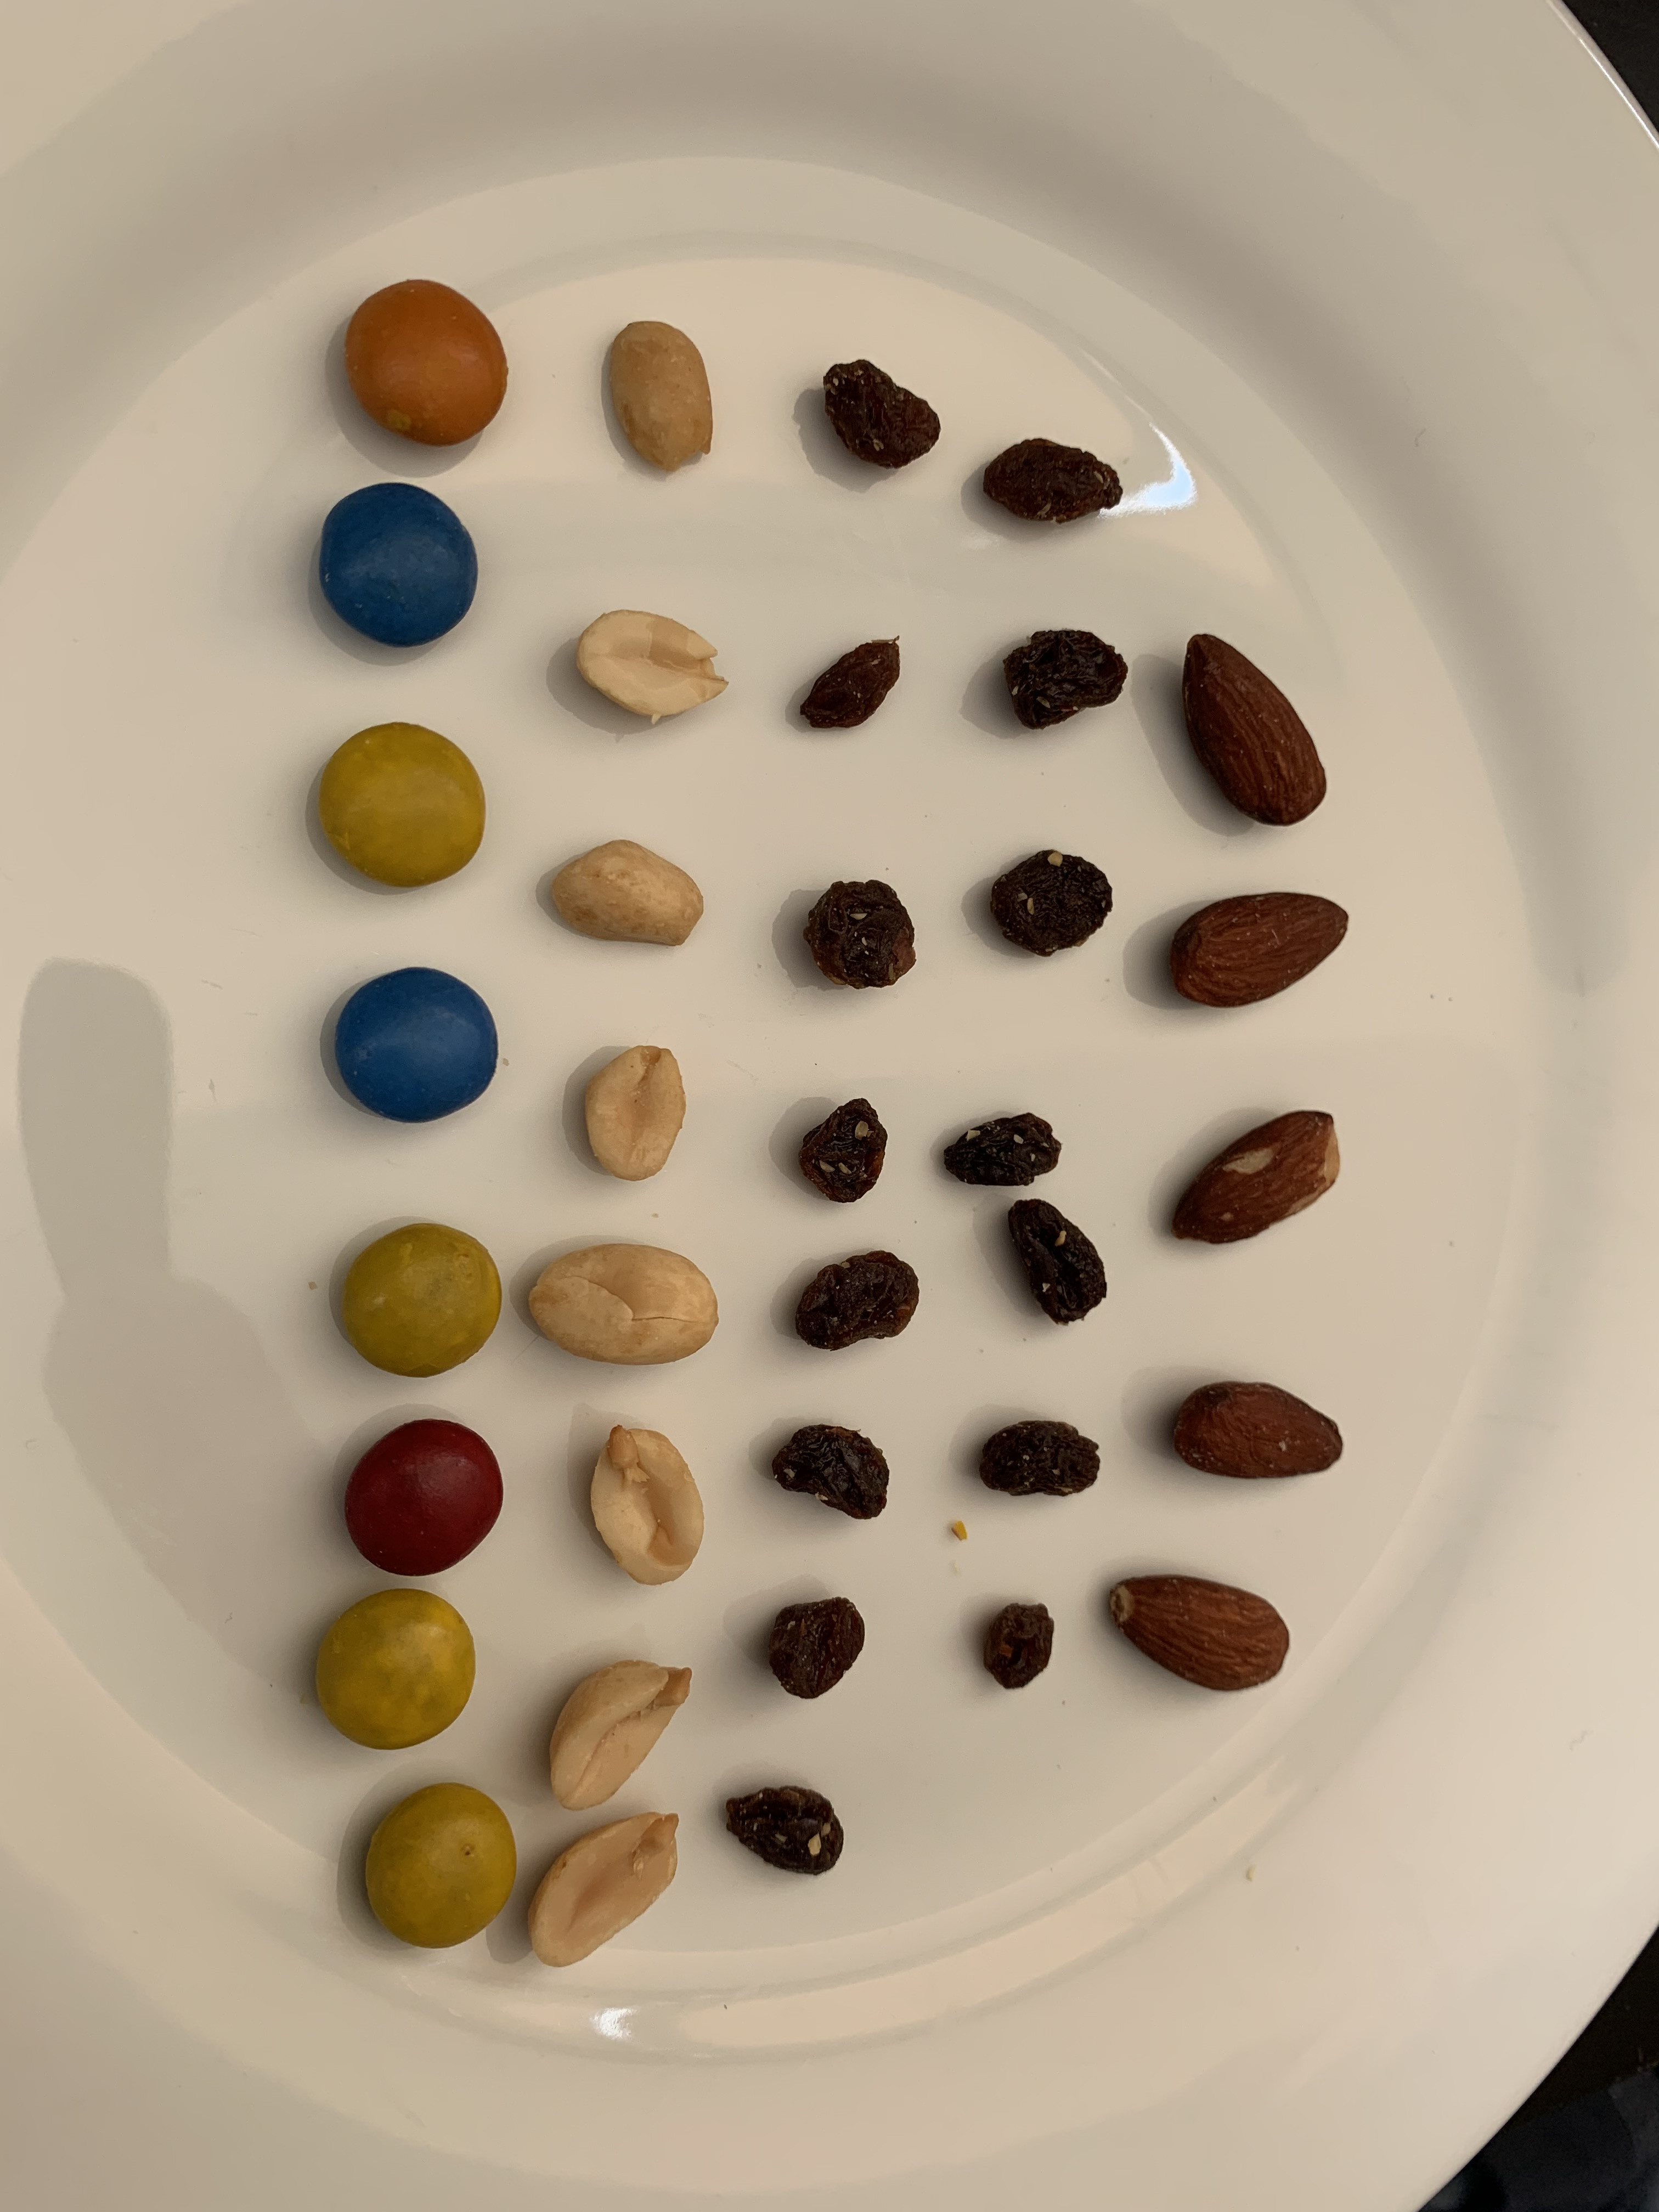almond: (1183, 631, 1328, 827), (1169, 1109, 1342, 1244), (1110, 1573, 1290, 1693), (1168, 892, 1351, 1008), (1169, 1379, 1345, 1479)
mm: (317, 718, 490, 887), (345, 277, 509, 446), (317, 481, 481, 646), (342, 1416, 505, 1580), (335, 965, 500, 1127), (361, 1780, 518, 1951), (314, 1588, 477, 1750), (335, 1221, 500, 1374)
peanut: (528, 1806, 683, 1970), (528, 1242, 720, 1367), (542, 1656, 695, 1811), (586, 1425, 704, 1588), (547, 838, 708, 948), (605, 319, 716, 475), (573, 606, 728, 718), (580, 1043, 685, 1184)
raisin: (990, 845, 1117, 956), (791, 1249, 920, 1353), (1006, 1198, 1110, 1327), (824, 354, 943, 467), (981, 435, 1126, 526), (805, 876, 918, 991), (1004, 627, 1127, 728), (718, 1784, 847, 1878), (772, 1425, 892, 1524), (796, 1094, 890, 1204), (767, 1597, 866, 1698), (798, 634, 903, 730), (976, 1420, 1100, 1500), (943, 1109, 1063, 1188), (985, 1602, 1054, 1695)
